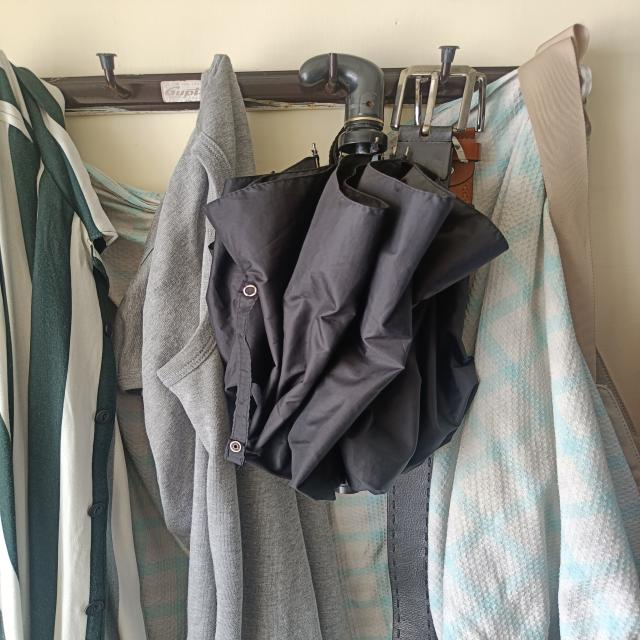umbrella: (204, 56, 508, 499)
